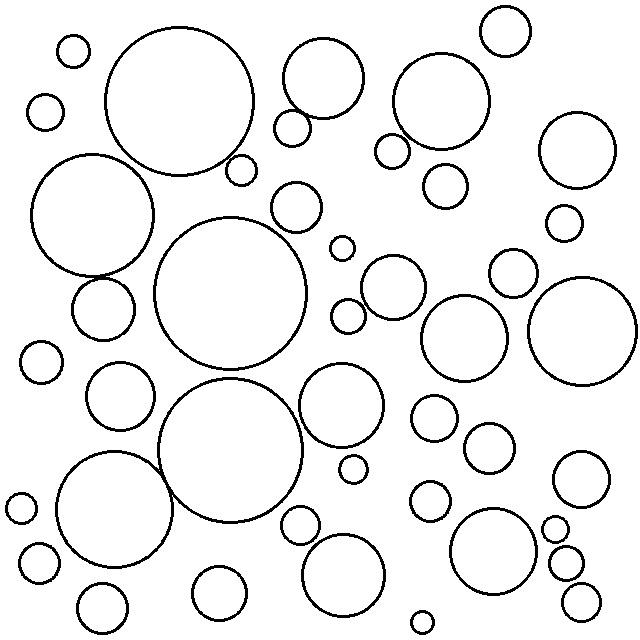circle: (151, 214, 311, 371), (103, 23, 258, 177), (155, 375, 306, 525), (28, 151, 157, 279), (54, 446, 176, 572), (526, 273, 638, 389), (390, 50, 491, 152), (447, 502, 541, 600), (418, 290, 512, 385), (295, 361, 389, 452), (299, 530, 390, 621), (536, 107, 621, 192), (281, 35, 367, 119), (83, 357, 158, 435), (357, 250, 429, 325), (70, 275, 139, 345), (549, 446, 613, 513), (188, 561, 251, 625), (461, 418, 519, 479), (74, 578, 132, 636), (485, 243, 542, 301), (267, 179, 324, 236), (478, 4, 534, 60), (407, 390, 461, 444), (419, 160, 471, 214), (18, 335, 66, 389), (15, 537, 63, 587), (409, 475, 454, 526), (558, 578, 605, 625), (278, 502, 323, 548), (23, 90, 68, 135), (270, 107, 314, 152), (544, 201, 587, 246), (329, 295, 370, 337), (373, 132, 412, 173), (548, 544, 587, 583), (4, 487, 42, 527), (55, 32, 93, 71), (222, 151, 260, 188), (337, 453, 371, 487), (327, 233, 359, 265), (542, 513, 572, 545), (407, 608, 439, 637)
